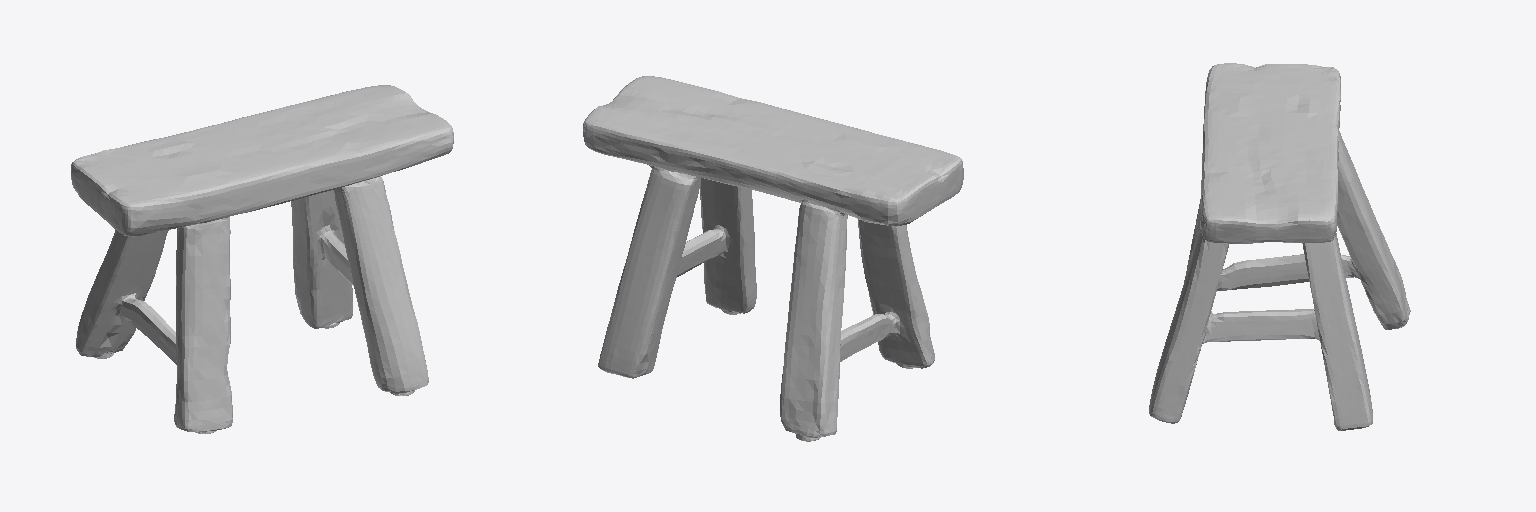
Rendered from wooden_stool_02.obj.
3 renders of one model, left to right at view 1: azimuth 30°, elevation 25°; view 2: azimuth 150°, elevation 25°; view 3: azimuth 270°, elevation 25°, orthographic.
Parts seen in each view (by area): view 1: wooden_stool_02; view 2: wooden_stool_02; view 3: wooden_stool_02.
Boxes of the visible parts, box(x1,y1,x2,y2) form: wooden_stool_02: box(71, 85, 453, 433); wooden_stool_02: box(583, 76, 963, 441); wooden_stool_02: box(1149, 63, 1410, 430).
Size of the model in its own units: 0.2652 by 0.1819 by 0.1831.